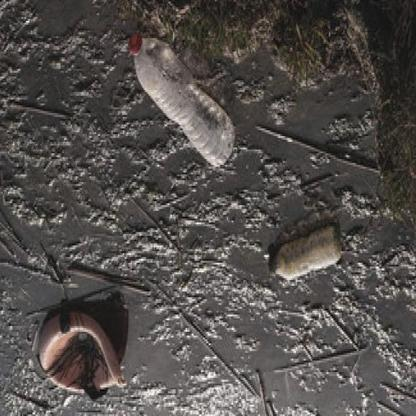plastic bottle: (128, 32, 235, 165), (266, 226, 341, 279)
